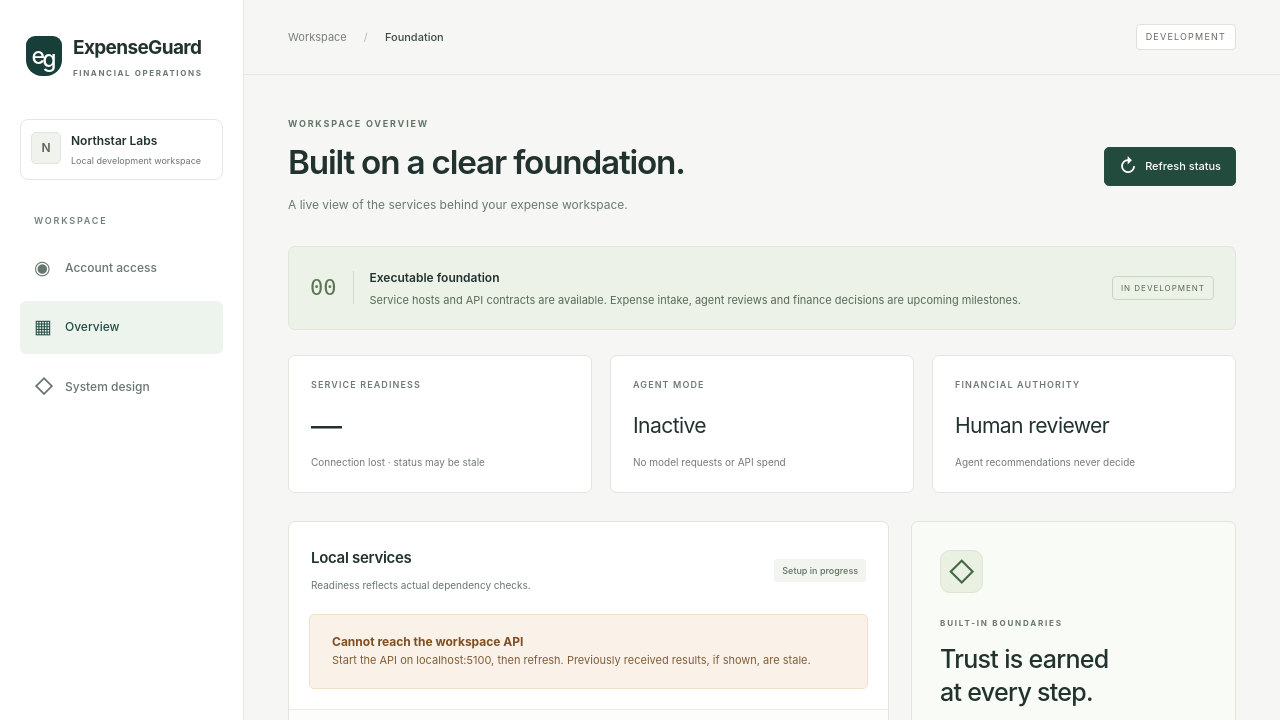
Test: workspace status › shows safe failure and recovers using refresh
The image size is (1280, 720).
Check: the message shows "Cannot reach the workspace API", box [332,634,523,649]
Click the button "↻ Refresh status". click: (1170, 167)
box: [1104,147,1236,186]
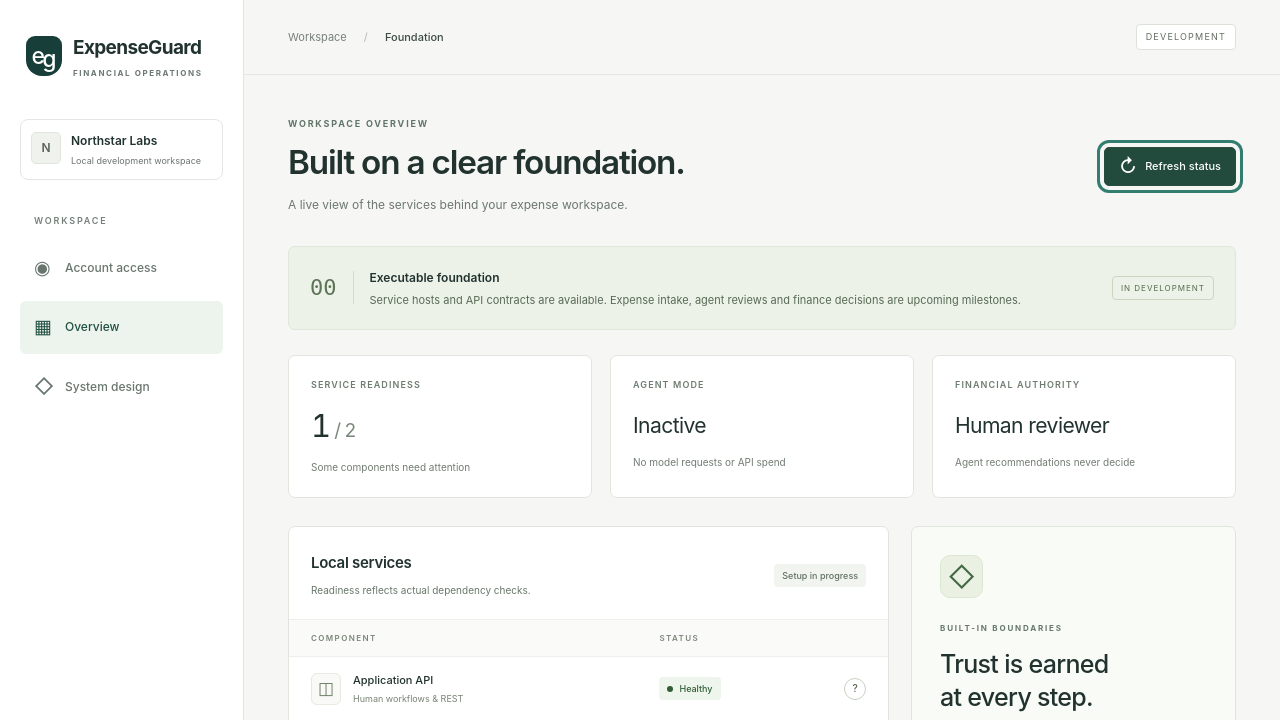
Check: the text "Application API" is shown, box [353,673,433,687]
